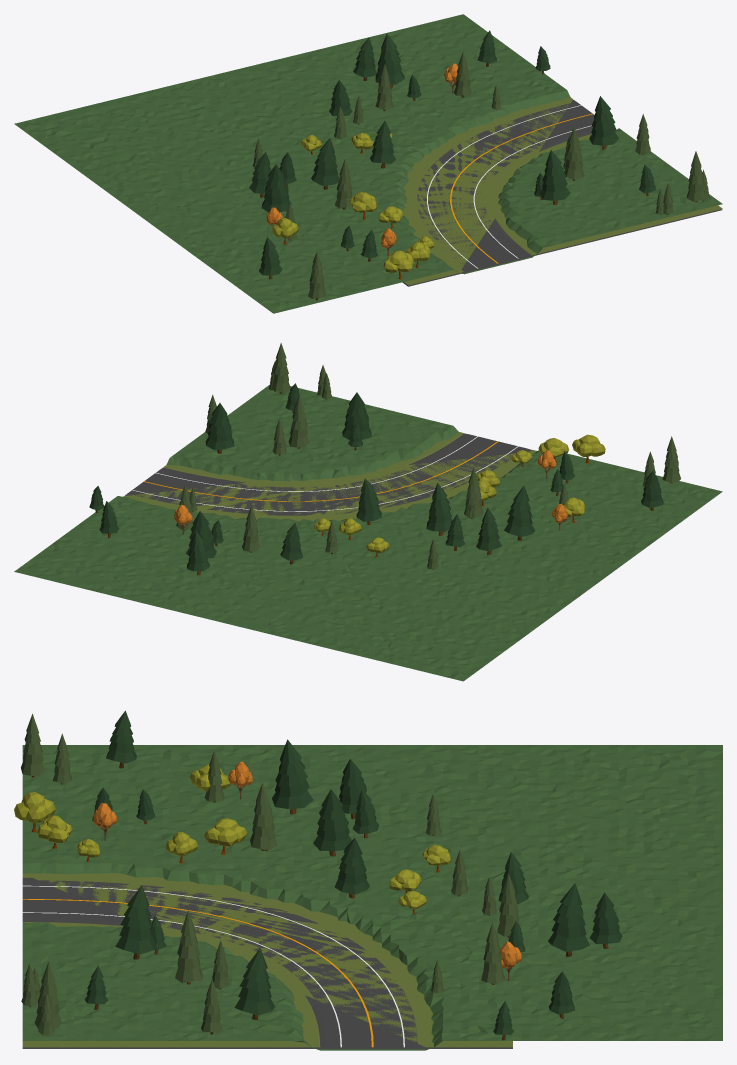
Rendered from ForestRoadLeft.fbx.
The picture shows the model from 3 angles, top to bottom: view 1: azimuth 30°, elevation 25°; view 2: azimuth 150°, elevation 25°; view 3: azimuth 270°, elevation 25°; orthographic projection. The views are drawn at different scales.
Visible parts, largest first — view 1: FRLPlane, FRLRoad, FRLPlane|pineTree04|Dupli|11, FRLPlane|pineTree04|Dupli|27, FRLPlane|pineTree04|Dupli|26, FRLPlane|pineTree04|Dupli|29, FRLPlane|pineTree04|Dupli|44, FRLPlane|pineTree04|Dupli|28, FRLPlane|pineTree05|Dupli|21, FRLPlane|pineTree05|Dupli|7, FRLPlane|pineTree04|Dupli|47, FRLPlane|pineTree04|Dupli|15 (+7 smaller); view 2: FRLPlane, FRLRoad, FRLPlane|pineTree04|Dupli|26, FRLPlane|pineTree04|Dupli|27, FRLPlane|pineTree04|Dupli|29, FRLPlane|pineTree04|Dupli|11, FRLPlane|pineTree04|Dupli|28, FRLPlane|pineTree05|Dupli|21, FRLPlane|pineTree04|Dupli|31, FRLPlane|pineTree04|Dupli|44, FRLPlane|pineTree04|Dupli|47, FRLPlane|pineTree05|Dupli|7 (+5 smaller); view 3: FRLPlane, FRLRoad, FRLPlane|pineTree04|Dupli|26, FRLPlane|pineTree04|Dupli|44, FRLPlane|pineTree04|Dupli|11, FRLPlane|pineTree04|Dupli|27, FRLPlane|pineTree04|Dupli|29, FRLPlane|pineTree04|Dupli|28, FRLPlane|pineTree05|Dupli|21, FRLPlane|pineTree04|Dupli|47, FRLPlane|pineTree04|Dupli|15, FRLPlane|pineTree04|Dupli|31 (+18 smaller).
Boxes of the visible parts, left/top/right/bottom form: FRLPlane: left=14, top=14, right=722, bottom=313; FRLRoad: left=402, top=97, right=722, bottom=286; FRLPlane|pineTree04|Dupli|11: left=539, top=150, right=570, bottom=204; FRLPlane|pineTree04|Dupli|27: left=589, top=96, right=619, bottom=149; FRLPlane|pineTree04|Dupli|26: left=261, top=164, right=291, bottom=212; FRLPlane|pineTree04|Dupli|29: left=311, top=137, right=338, bottom=189; FRLPlane|pineTree04|Dupli|44: left=375, top=33, right=404, bottom=88; FRLPlane|pineTree04|Dupli|28: left=370, top=120, right=395, bottom=168; FRLPlane|pineTree05|Dupli|21: left=564, top=126, right=584, bottom=180; FRLPlane|pineTree05|Dupli|7: left=686, top=151, right=706, bottom=202; FRLPlane|pineTree04|Dupli|47: left=353, top=37, right=376, bottom=80; FRLPlane|pineTree04|Dupli|15: left=259, top=237, right=282, bottom=279; FRLPlane: left=14, top=384, right=722, bottom=681; FRLRoad: left=123, top=432, right=536, bottom=521; FRLPlane|pineTree04|Dupli|26: left=504, top=486, right=535, bottom=540; FRLPlane|pineTree04|Dupli|27: left=205, top=403, right=234, bottom=453; FRLPlane|pineTree04|Dupli|29: left=426, top=483, right=452, bottom=535; FRLPlane|pineTree04|Dupli|11: left=342, top=392, right=371, bottom=439; FRLPlane|pineTree04|Dupli|28: left=356, top=478, right=381, bottom=525; FRLPlane|pineTree05|Dupli|21: left=288, top=394, right=309, bottom=448; FRLPlane|pineTree04|Dupli|31: left=476, top=507, right=501, bottom=554; FRLPlane|pineTree04|Dupli|44: left=186, top=511, right=216, bottom=558; FRLPlane|pineTree04|Dupli|47: left=187, top=531, right=209, bottom=575; FRLPlane|pineTree05|Dupli|7: left=271, top=343, right=290, bottom=393; FRLPlane: left=22, top=745, right=722, bottom=1050; FRLRoad: left=22, top=873, right=512, bottom=1048; FRLPlane|pineTree04|Dupli|26: left=272, top=739, right=313, bottom=814; FRLPlane|pineTree04|Dupli|44: left=548, top=883, right=589, bottom=956; FRLPlane|pineTree04|Dupli|11: left=115, top=885, right=156, bottom=959; FRLPlane|pineTree04|Dupli|27: left=234, top=948, right=275, bottom=1019; FRLPlane|pineTree04|Dupli|29: left=313, top=789, right=351, bottom=856; FRLPlane|pineTree04|Dupli|28: left=334, top=838, right=369, bottom=898; FRLPlane|pineTree05|Dupli|21: left=175, top=910, right=202, bottom=984; FRLPlane|pineTree04|Dupli|47: left=589, top=892, right=622, bottom=948; FRLPlane|pineTree04|Dupli|15: left=106, top=710, right=136, bottom=768; FRLPlane|pineTree04|Dupli|31: left=339, top=759, right=366, bottom=819.
Size of what is drawn, in the model's own units: 20227 by 2612 by 20246.
